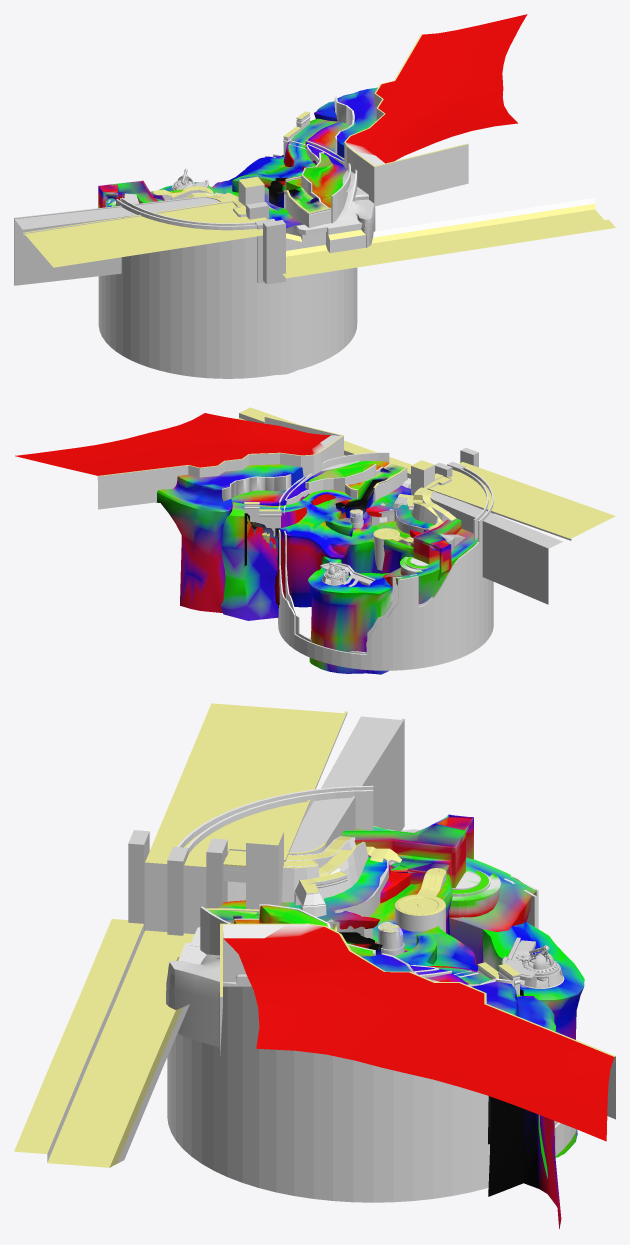
File: observatoryv2.fbx
The picture shows the model from 3 angles, top to bottom: view 1: azimuth 30°, elevation 25°; view 2: azimuth 150°, elevation 25°; view 3: azimuth 270°, elevation 25°; orthographic projection. The views are drawn at different scales.
Visible parts, largest first — view 1: OB_Ruins_ForceFieldWall_2, OB_OOB_Pool_Plane_01, OB_OOB_Terrain_Top, OB_Wall_Ruins_Boundary_1, OB_Ground_Terrain_01, OB_Wall_Ruins_Boundary_3, OB_OOB_Pool_Plane_02, OB_Ground_Terrain_02, OB_Optional_02_ON_Ruins, Cube.006, OB_Wall_Ruins_Boundary_2, OB_Optional_02_ON_Terrain (+6 smaller); view 2: OB_Ruins_ForceFieldWall_2, OB_OOB_Terrain_Top, OB_Ground_Terrain_01, OB_Ground_Terrain_02, OB_OOB_Pool_Plane_01, OB_Ground_Terrain_03, OB_Ground_Terrain_05, OB_Wall_Ruins_Boundary_1, OB_Wall_Ruins_Boundary_3, OB_Wall_Ruins_Boundary_2, OB_Ruins_ForceFieldWall_1, OB_Ground_Ruins_04 (+16 smaller); view 3: OB_Ruins_ForceFieldWall_2, OB_OOB_Pool_Plane_01, OB_OOB_Terrain_Top, OB_Ground_Terrain_01, OB_Ground_Ruins_04, OB_OOB_Pool_Plane_02, OB_Ground_Terrain_05, OB_Optional_02_ON_Terrain, OB_Ruins_ForceFieldWall_1, OB_Wall_Ruins_Boundary_3, OB_Optional_01_CliffFace, OB_Ground_Terrain_04 (+16 smaller).
Part boxes in pixels (box(x1,y1,x2,y2)): OB_Ruins_ForceFieldWall_2: box(98, 140, 357, 378); OB_OOB_Pool_Plane_01: box(25, 198, 615, 278); OB_OOB_Terrain_Top: box(346, 14, 527, 165); OB_Wall_Ruins_Boundary_1: box(344, 34, 468, 206); OB_Ground_Terrain_01: box(286, 87, 377, 207); OB_Wall_Ruins_Boundary_3: box(14, 197, 197, 285); OB_OOB_Pool_Plane_02: box(15, 198, 220, 229); OB_Ground_Terrain_02: box(232, 118, 339, 192); OB_Optional_02_ON_Ruins: box(294, 218, 365, 253); Cube.006: box(263, 220, 285, 284); OB_Wall_Ruins_Boundary_2: box(283, 144, 331, 236); OB_Optional_02_ON_Terrain: box(337, 170, 375, 247); OB_Ruins_ForceFieldWall_2: box(278, 467, 493, 670); OB_OOB_Terrain_Top: box(15, 413, 341, 475); OB_Ground_Terrain_01: box(156, 461, 389, 612); OB_Ground_Terrain_02: box(221, 489, 354, 620); OB_OOB_Pool_Plane_01: box(237, 407, 615, 538); OB_Ground_Terrain_03: box(275, 497, 413, 607); OB_Ground_Terrain_05: box(308, 556, 392, 674); OB_Wall_Ruins_Boundary_1: box(97, 416, 343, 509); OB_Wall_Ruins_Boundary_3: box(436, 501, 548, 604); OB_Wall_Ruins_Boundary_2: box(286, 463, 407, 504); OB_Ruins_ForceFieldWall_1: box(283, 452, 488, 654); OB_Ground_Ruins_04: box(409, 518, 461, 580); OB_Ruins_ForceFieldWall_2: box(167, 785, 576, 1202); OB_OOB_Pool_Plane_01: box(14, 703, 343, 1167); OB_OOB_Terrain_Top: box(223, 924, 613, 1141); OB_Ground_Terrain_01: box(233, 905, 561, 1228); OB_Ground_Ruins_04: box(341, 814, 473, 888); OB_OOB_Pool_Plane_02: box(289, 716, 400, 852); OB_Ground_Terrain_05: box(482, 921, 584, 1157); OB_Optional_02_ON_Terrain: box(166, 954, 247, 1046); OB_Ruins_ForceFieldWall_1: box(187, 790, 558, 1125); OB_Wall_Ruins_Boundary_3: box(324, 718, 404, 847); OB_Optional_01_CliffFace: box(354, 826, 537, 966); OB_Ground_Terrain_04: box(221, 857, 410, 929).
Bounding box in the file's own units: 1982 × 568 × 1084.
